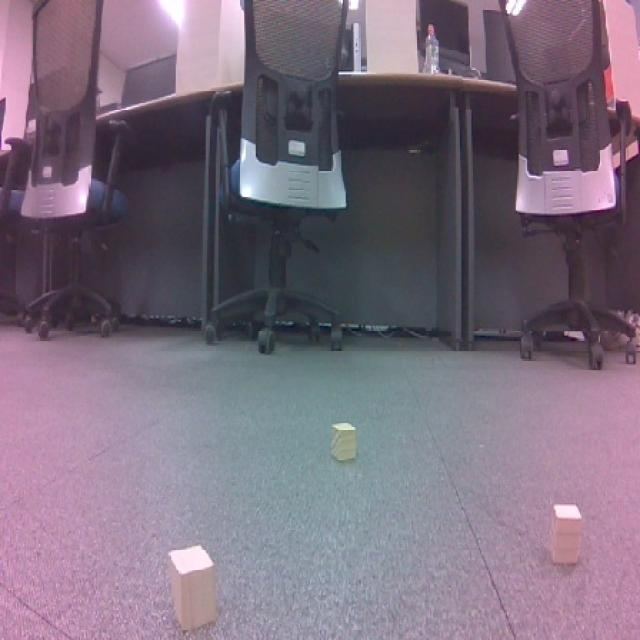obstacle: (159, 541, 226, 638), (544, 496, 589, 572), (319, 412, 369, 472)
